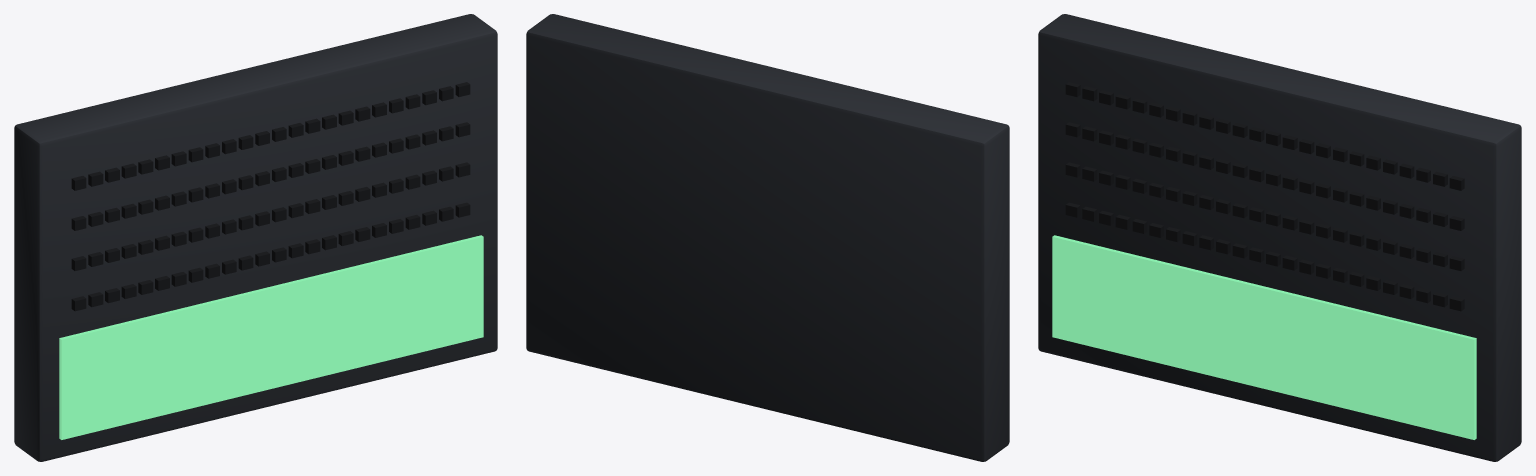
File: patch_panel.glb
The picture shows the model from 3 angles, left to right: view 1: azimuth 30°, elevation 25°; view 2: azimuth 150°, elevation 25°; view 3: azimuth 330°, elevation 25°; orthographic projection.
Visible parts, largest first — view 1: panel, screen; view 2: panel; view 3: panel, screen.
Part boxes in pixels (x1=…): panel: x1=14, y1=14, x2=497, y2=461; screen: x1=59, y1=235, x2=483, y2=439; panel: x1=526, y1=14, x2=1009, y2=461; panel: x1=1038, y1=14, x2=1521, y2=461; screen: x1=1052, y1=235, x2=1476, y2=439.
Size of the model in its own units: 1.2 by 0.8 by 0.135.
